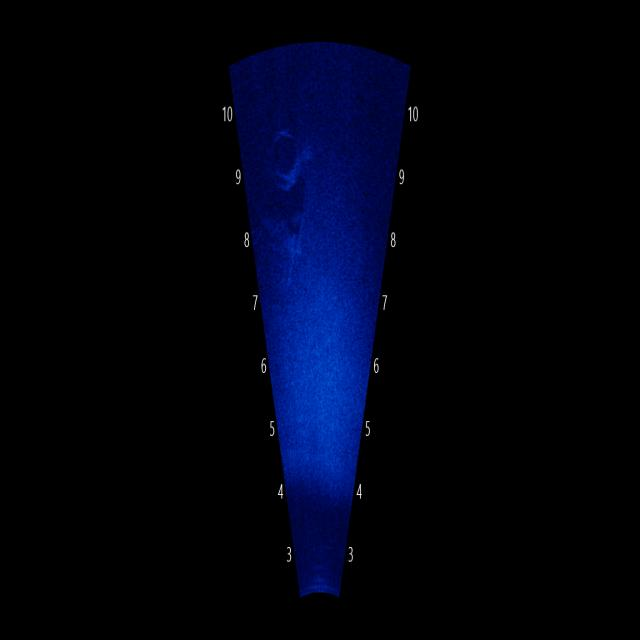circle: (264, 102, 309, 204)
